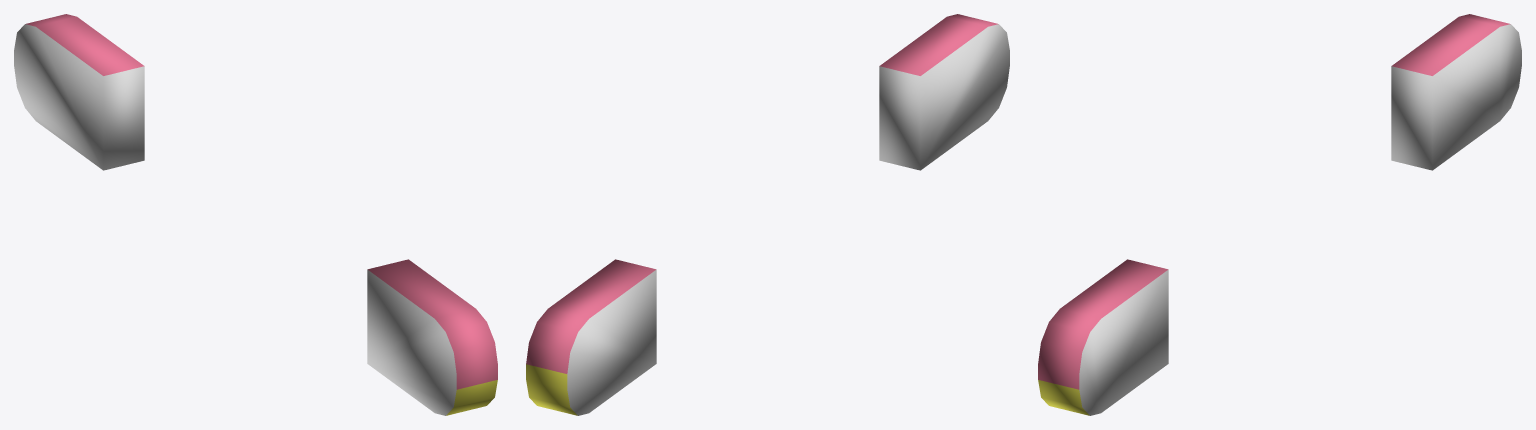
Rendered from Face1_Bois.fbx.
3 renders of one model, left to right at view 1: azimuth 30°, elevation 25°; view 2: azimuth 150°, elevation 25°; view 3: azimuth 330°, elevation 25°, orthographic.
Parts seen in each view (by area): view 1: Cube.038; view 2: Cube.038; view 3: Cube.038.
Boxes of the visible parts, box(x1,y1,x2,y2) form: Cube.038: box(14, 14, 497, 415); Cube.038: box(526, 14, 1009, 415); Cube.038: box(1038, 14, 1521, 415).
Size of the model in its own units: 9.02 by 19.73 by 168.
